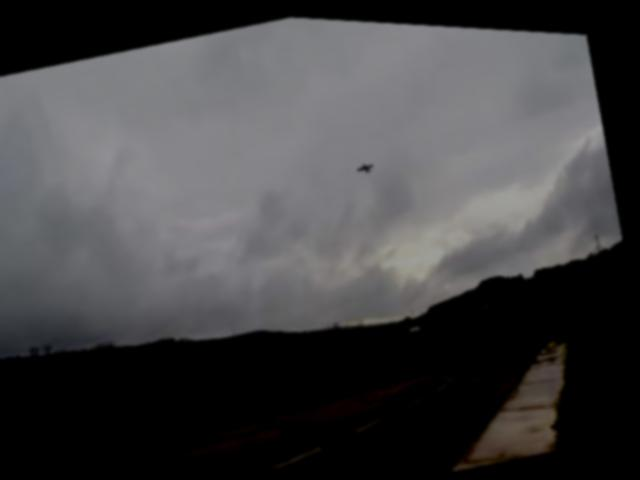uav: (350, 144, 385, 178)
